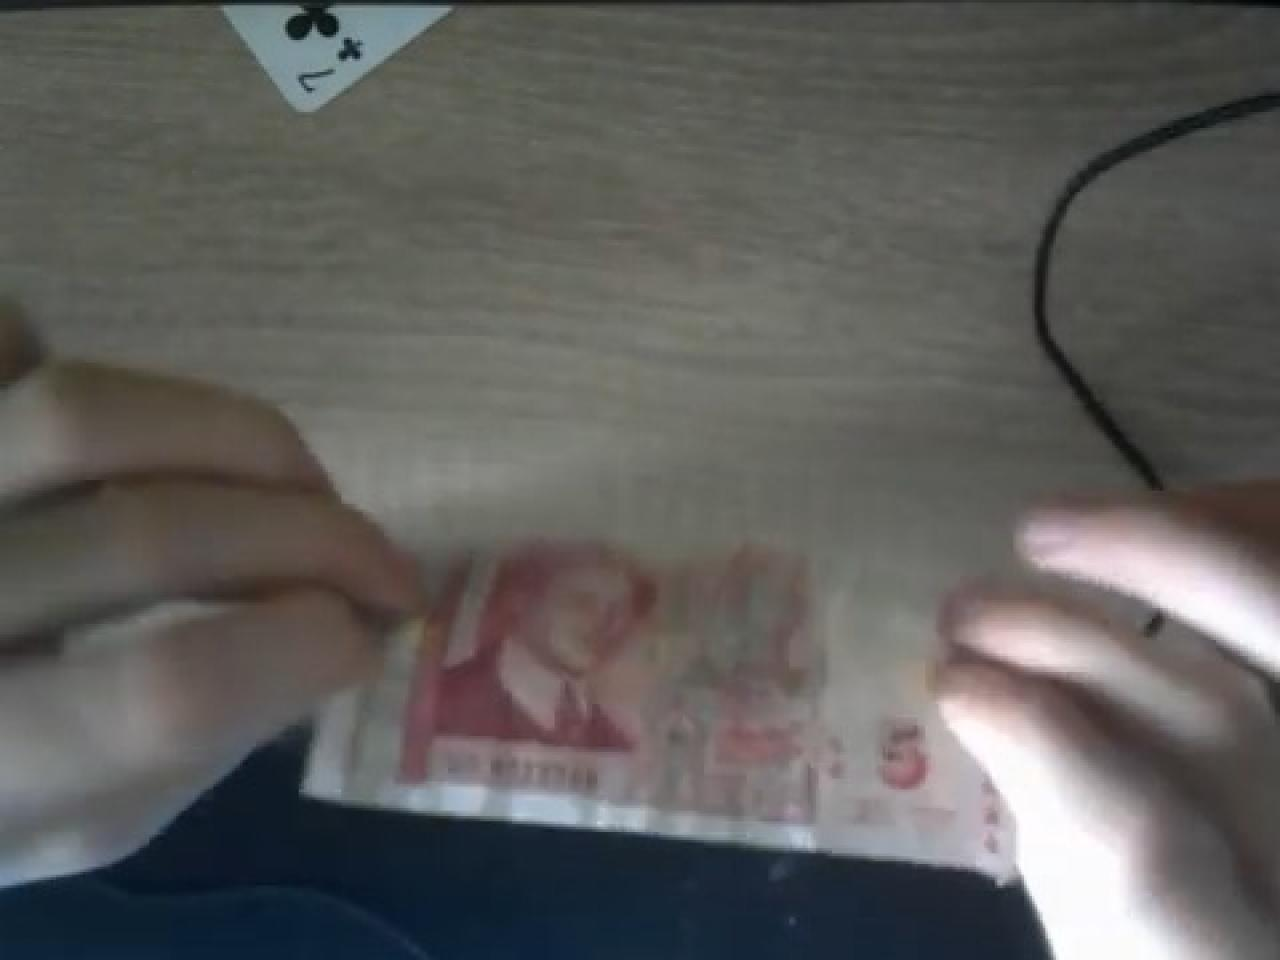5leva: (400, 538, 794, 798)
